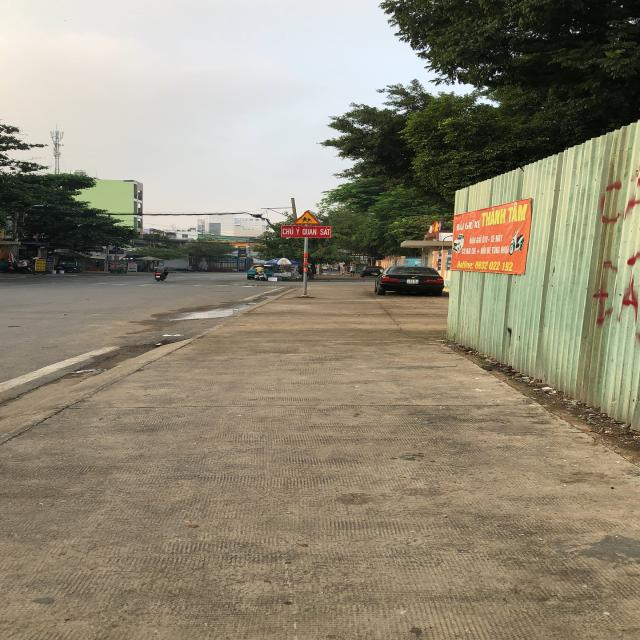Bien bao tre em: (292, 209, 324, 226)
